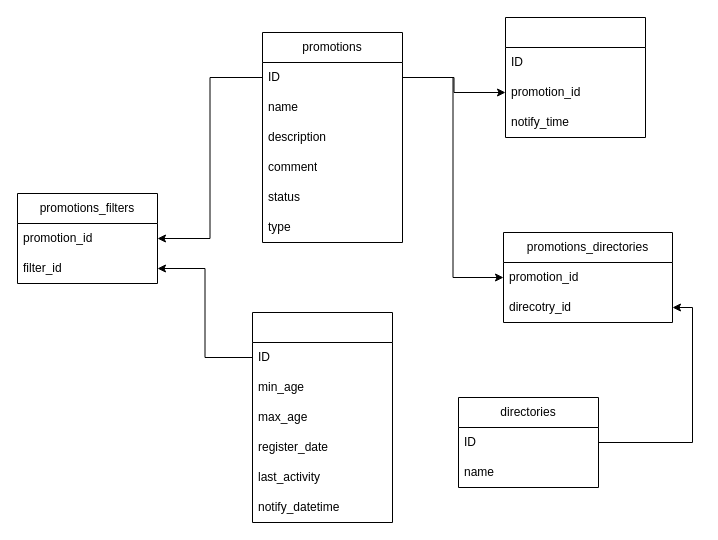
Image size: 718x540. Some labels were removed from this diagram. The shapes that lost their labels are listed below. From the top down, each one's box as (x1, y1, x2, y2) in pixels, then its label:
(504, 16, 646, 138): notifies
(252, 312, 392, 522): filters
